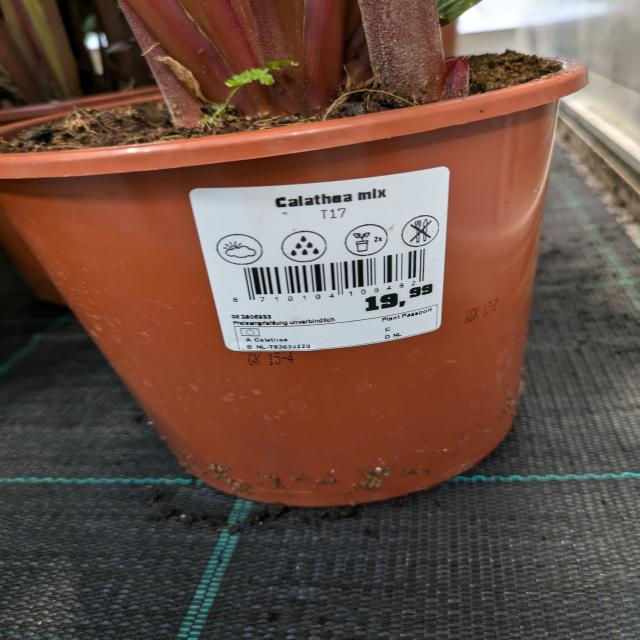dungen: (341, 218, 389, 258)
halb sonnig schattig: (214, 230, 266, 270)
viel giesen: (282, 226, 333, 265)
